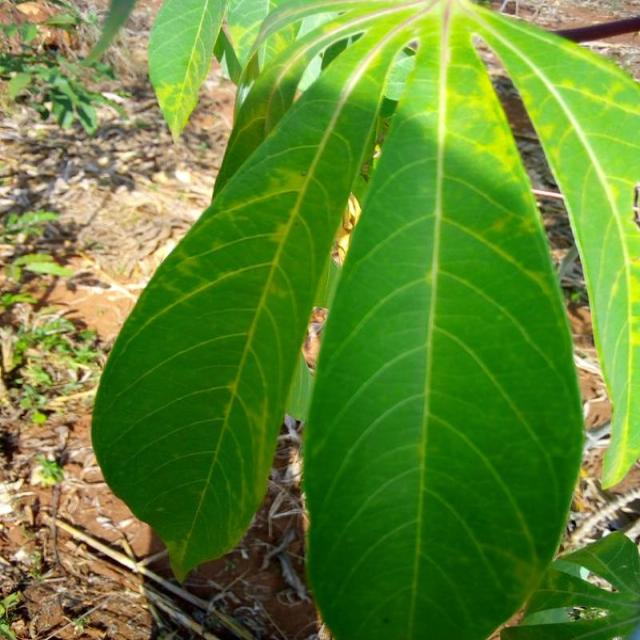cassava leaf: (89, 14, 412, 585), (300, 3, 586, 638), (455, 0, 639, 491)
